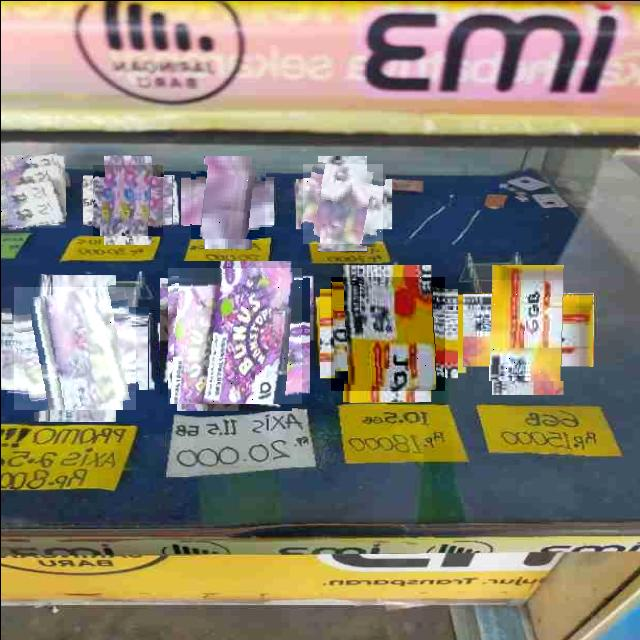Axis: (167, 267, 301, 403), (13, 286, 135, 409), (302, 163, 382, 243), (190, 164, 264, 238), (92, 164, 162, 235), (0, 154, 65, 227)
im3: (330, 276, 444, 390), (476, 279, 578, 380)
